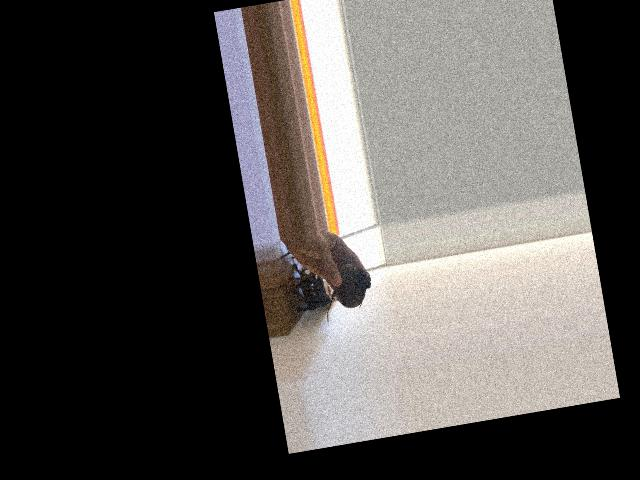beet: (318, 260, 377, 324)
